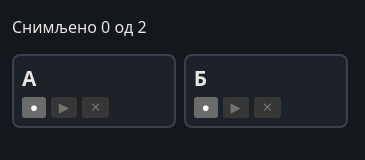
Test: Recorder › records, saves, counts and deletes; one stream, stopped on unmount
The width and height of the screenshot is (365, 160).
Expected: the text "Снимљено 0 од 2" is shown, [12,16,147,38]
Click the button named "Сними". click: {"x": 206, "y": 107}
box: [194,97,218,118]
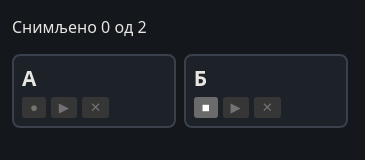
Click the button named "Стоп". click: {"x": 206, "y": 107}
box: [194,97,218,118]
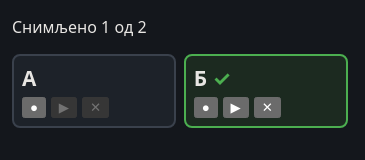
Expected: the number of elements with class "recorded" is 1, [184,54,348,128]
Result: the text "Снимљено 1 од 2" is shown at [12,16,147,38]
Click the button named "Сними". click: {"x": 34, "y": 107}
box: [22,97,46,118]
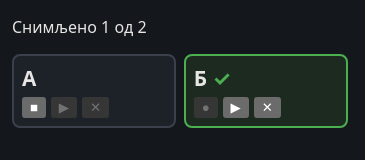
Click the button named "Стоп". click: {"x": 34, "y": 107}
box: [22,97,46,118]
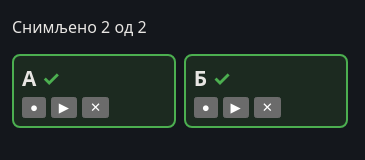
Result: the text "Снимљено 2 од 2" is shown at [12,16,147,38]
Click the button named "Обриши". click: {"x": 96, "y": 107}
box: [82,97,109,118]
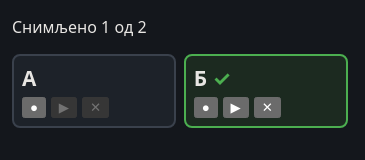
Result: the text "Снимљено 1 од 2" is shown at [12,16,147,38]
